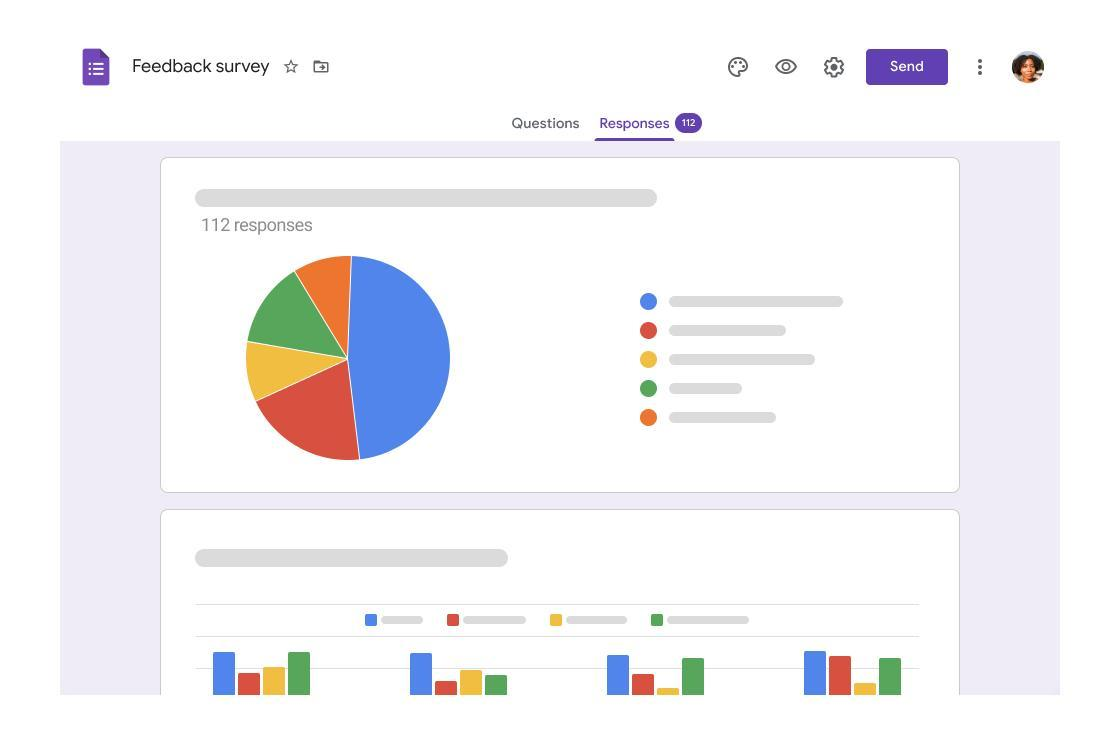button: (866, 48, 950, 87)
icon: (728, 56, 754, 80), (824, 57, 845, 79), (775, 58, 799, 76), (311, 59, 333, 75), (975, 56, 986, 78), (285, 59, 298, 75)
label: (133, 55, 271, 80), (195, 216, 315, 238), (599, 112, 671, 134), (511, 117, 580, 131)
